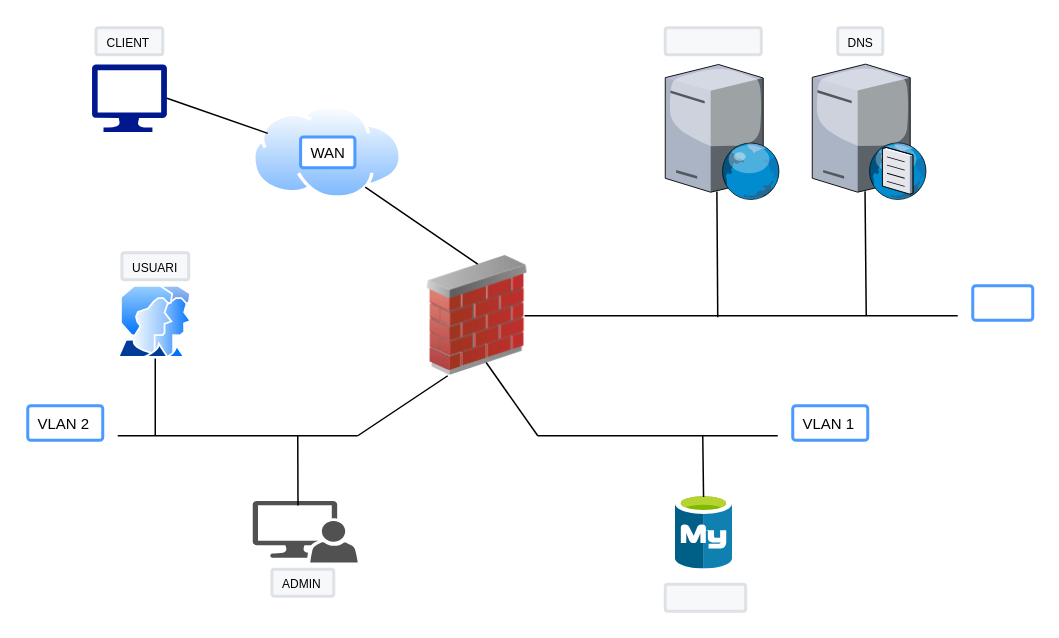
Image size: 1059x638. Some labels were removed from this diagram. Each missing label, with the centre of its shape:
"DATABASE" goes at point 704,597.
"DMZ" goes at point 1002,302.
"WEBSERVER" goes at point 712,41.
